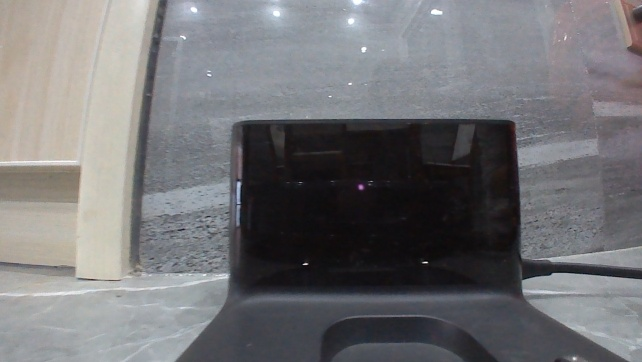charger: (171, 110, 635, 361)
wire: (552, 257, 641, 282)
